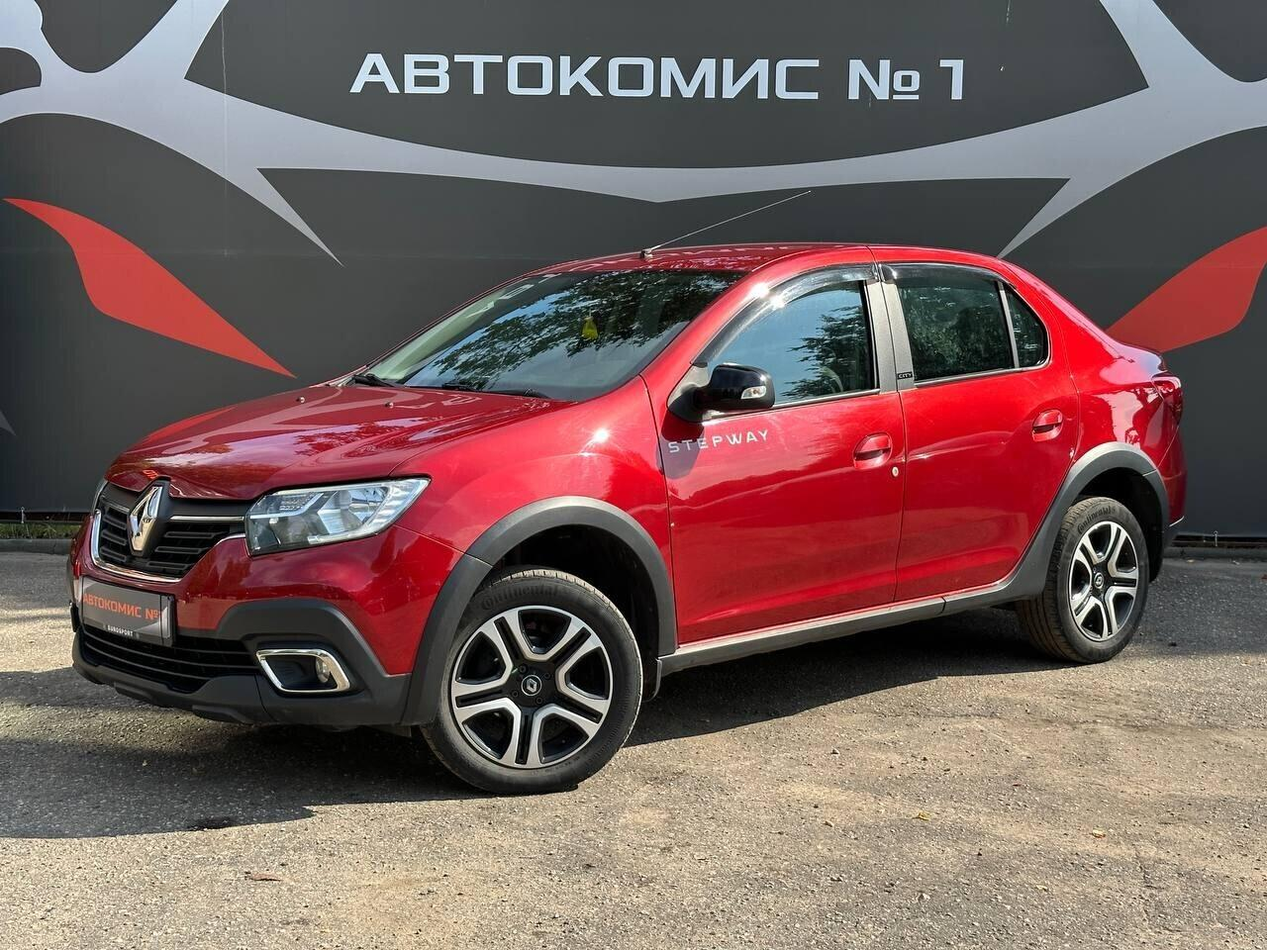Logan_2018: (56, 240, 1196, 795)
